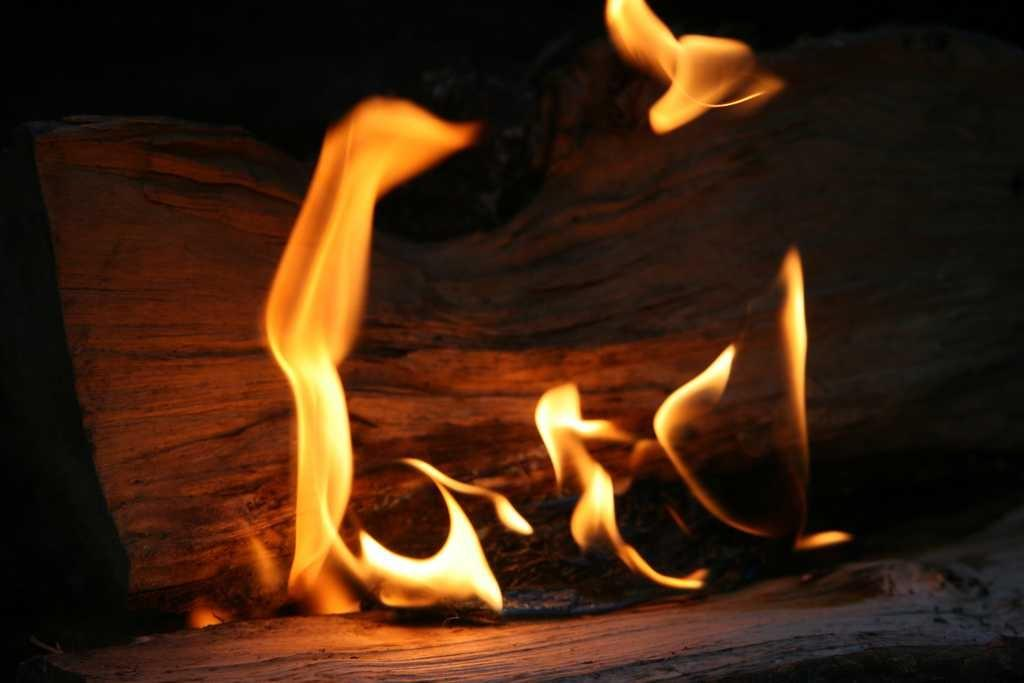fire: (291, 145, 380, 354), (299, 378, 346, 591), (657, 34, 747, 113), (399, 557, 481, 613), (544, 398, 592, 467), (575, 478, 620, 549)
